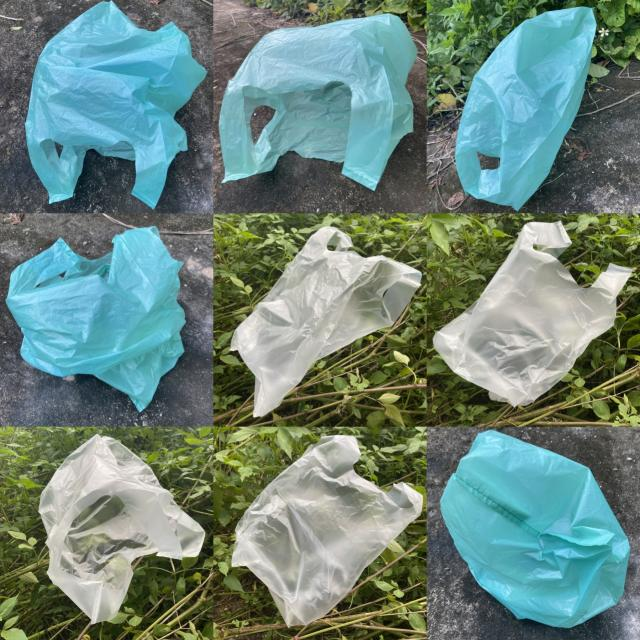Single-layer Plastic: (25, 1, 206, 208), (441, 430, 630, 628), (434, 221, 631, 406), (232, 435, 422, 626), (231, 226, 421, 416), (219, 15, 416, 189), (6, 226, 185, 411), (39, 435, 205, 623), (455, 6, 596, 209)
